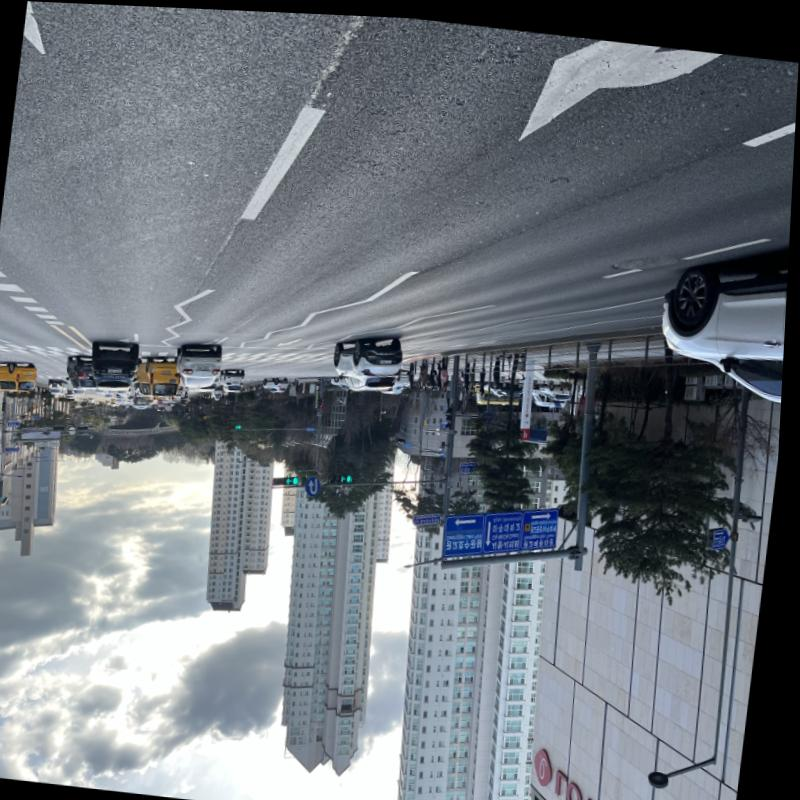green: (297, 474, 303, 481)
left: (289, 474, 298, 482)
